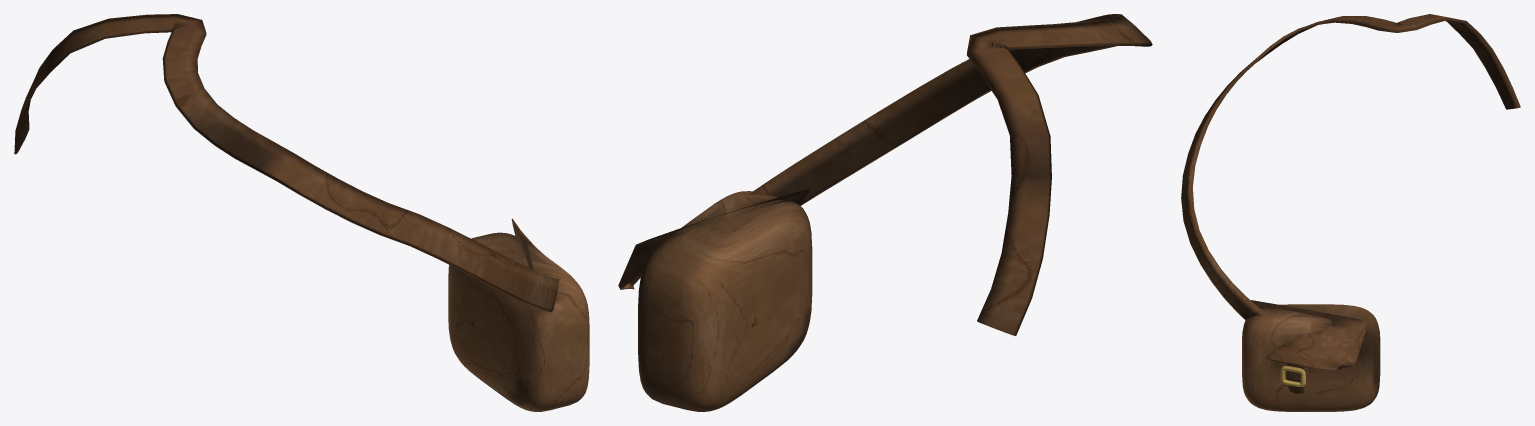
Rendered from satchel.glb.
The picture shows the model from 3 angles, left to right: view 1: azimuth 30°, elevation 25°; view 2: azimuth 150°, elevation 25°; view 3: azimuth 270°, elevation 25°; orthographic projection. The views are drawn at different scales.
Parts seen in each view (by area): view 1: satchel_strap, satchel_bag; view 2: satchel_bag, satchel_strap, satchel_flap; view 3: satchel_bag, satchel_strap, satchel_flap, satchel_buckle, satchel_tab.
Part boxes in pixels (bbox=[...]): satchel_strap: bbox=[14, 14, 559, 312]; satchel_bag: bbox=[448, 232, 589, 411]; satchel_bag: bbox=[638, 191, 812, 411]; satchel_strap: bbox=[749, 14, 1152, 335]; satchel_flap: bbox=[618, 189, 809, 289]; satchel_bag: bbox=[1242, 304, 1380, 411]; satchel_strap: bbox=[1181, 14, 1520, 320]; satchel_flap: bbox=[1251, 300, 1368, 370]; satchel_buckle: bbox=[1280, 365, 1305, 386]; satchel_tab: bbox=[1286, 363, 1304, 394].
Size of the model in its own units: 23.19 by 19.54 by 21.3.
1 material, 1 textured.
